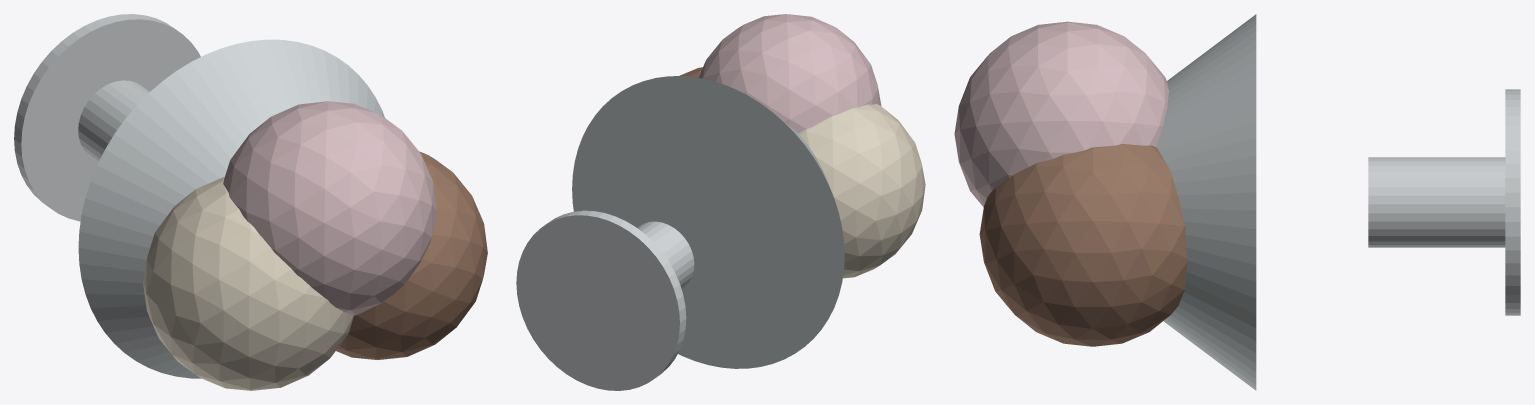
The model's file is copa-helada-rabieta.glb.
3 views of the same model, side by side, from view 1: azimuth 30°, elevation 25°; view 2: azimuth 150°, elevation 25°; view 3: azimuth 270°, elevation 25° (orthographic). The views are drawn at different scales.
Parts seen in each view (by area): view 1: world; view 2: world; view 3: world.
Part boxes in pixels (x1,y1,x2,y2): world: (14, 14, 487, 390); world: (516, 14, 925, 390); world: (954, 14, 1520, 390).
Bounding box in the file's own units: 0.15 × 0.15 × 0.225.
